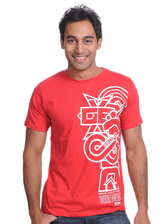clothoes: (22, 66, 144, 217)
